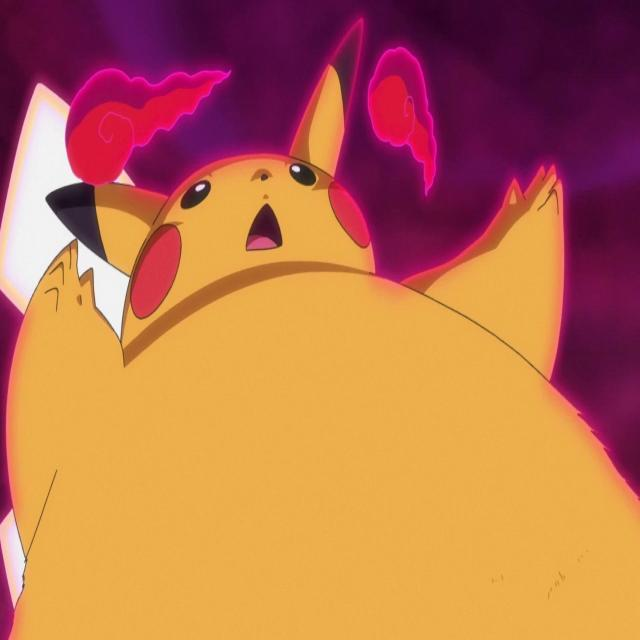pikachu: (6, 16, 630, 640)
